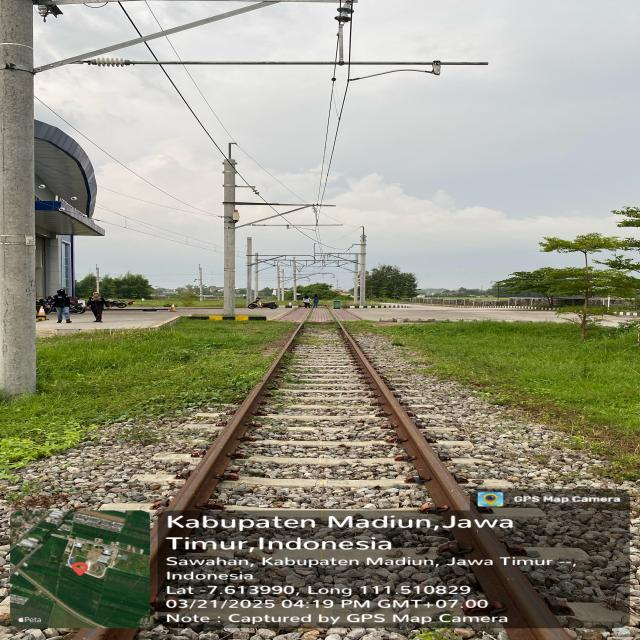rail-detection: (340, 325, 569, 640), (169, 335, 294, 515)
